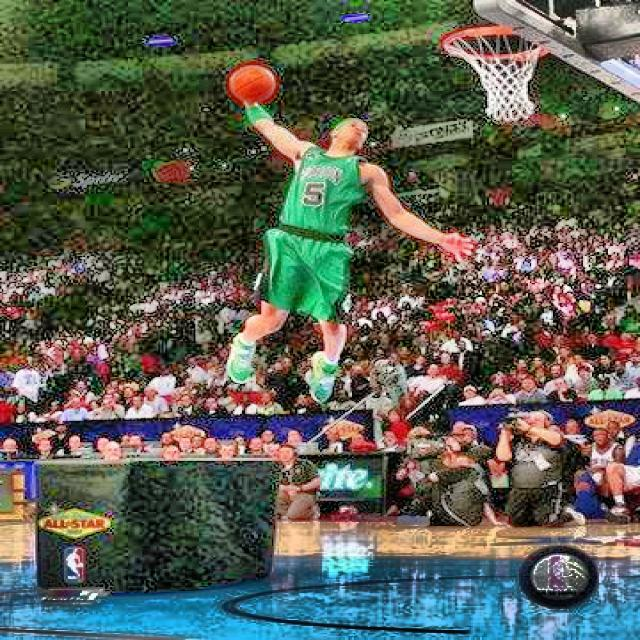board: (228, 65, 276, 103)
rim: (444, 26, 544, 120)
